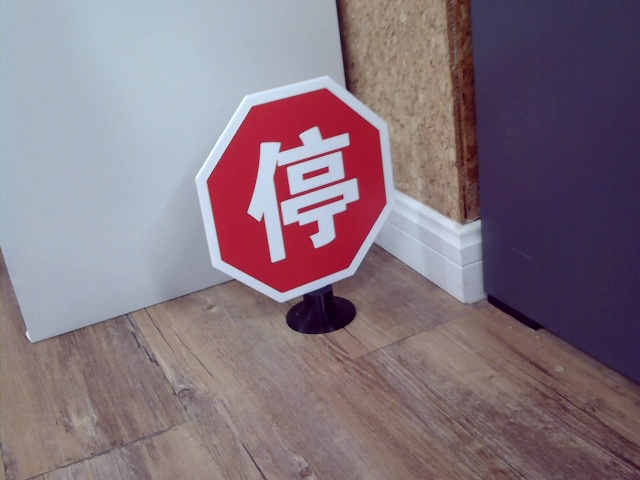stop: (245, 129, 364, 261)
